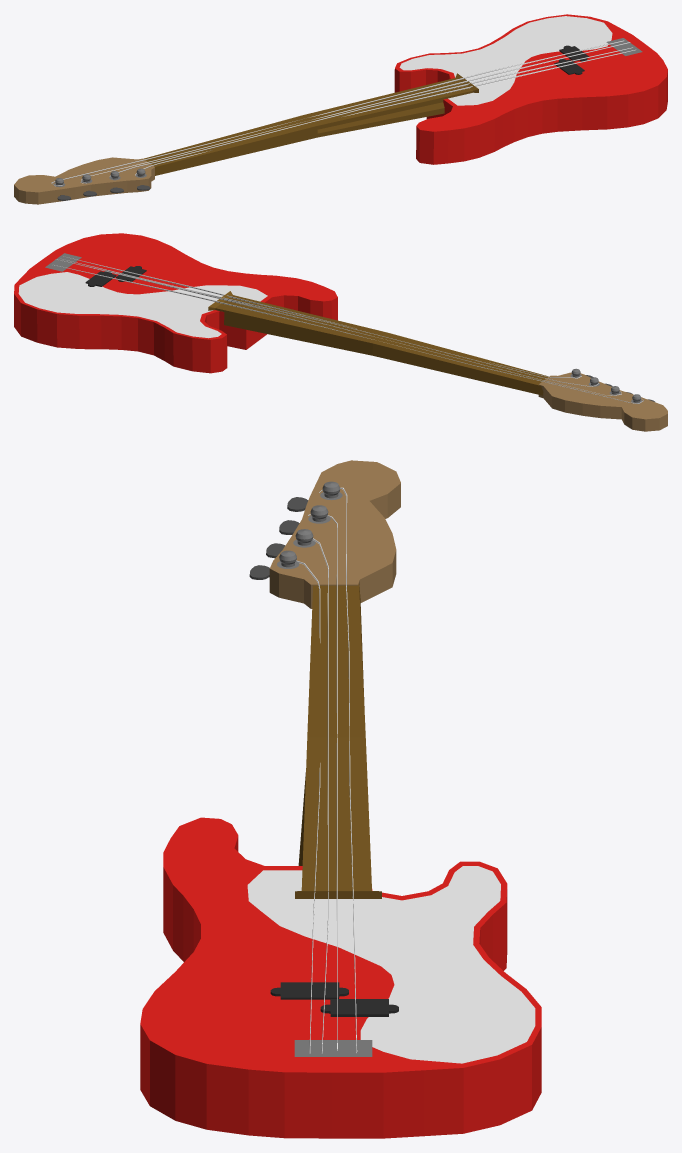
Rendered from guitarra.fbx.
The picture shows the model from 3 angles, top to bottom: view 1: azimuth 30°, elevation 25°; view 2: azimuth 150°, elevation 25°; view 3: azimuth 270°, elevation 25°; orthographic projection. The views are drawn at different scales.
Visible parts, largest first — view 1: Plane; view 2: Plane; view 3: Plane.
Part boxes in pixels (left/top/right/bottom): Plane: left=14, top=14, right=667, bottom=204; Plane: left=14, top=233, right=667, bottom=431; Plane: left=140, top=460, right=541, bottom=1138.
Size of the model in its own units: 5079 by 325 by 1419.
